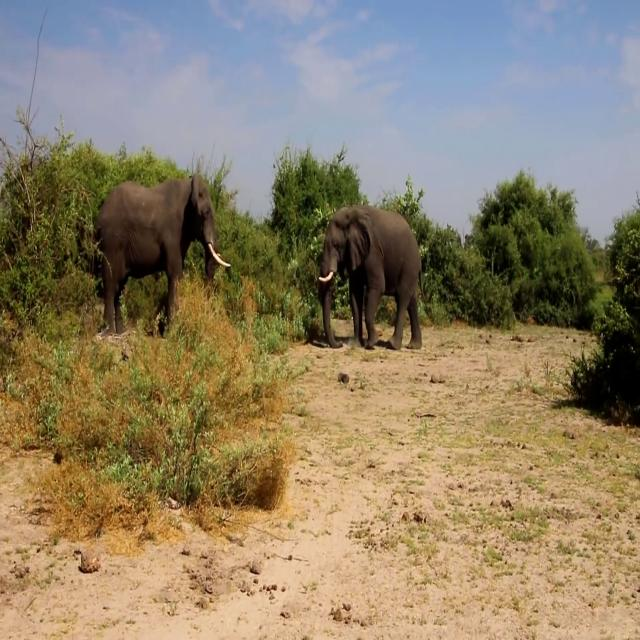Elephant: (92, 171, 231, 338), (318, 203, 426, 351)
